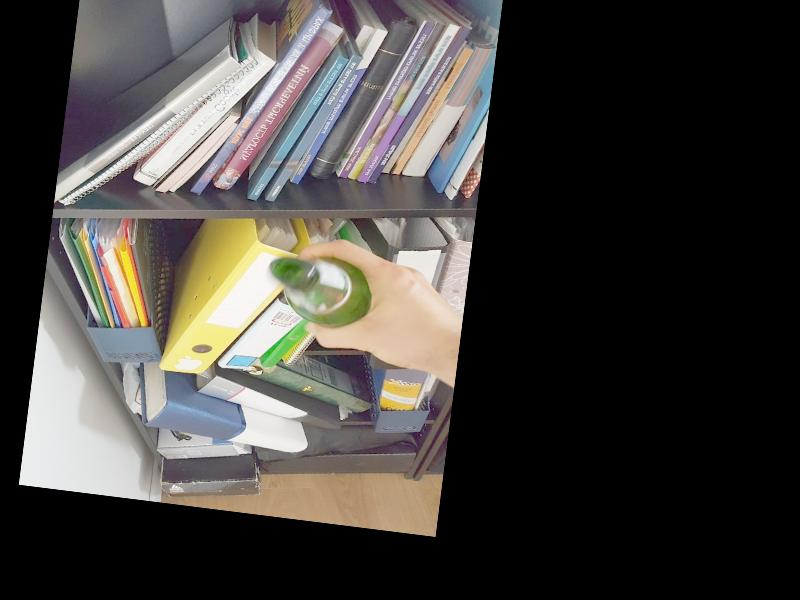Beer: (263, 250, 375, 331)
